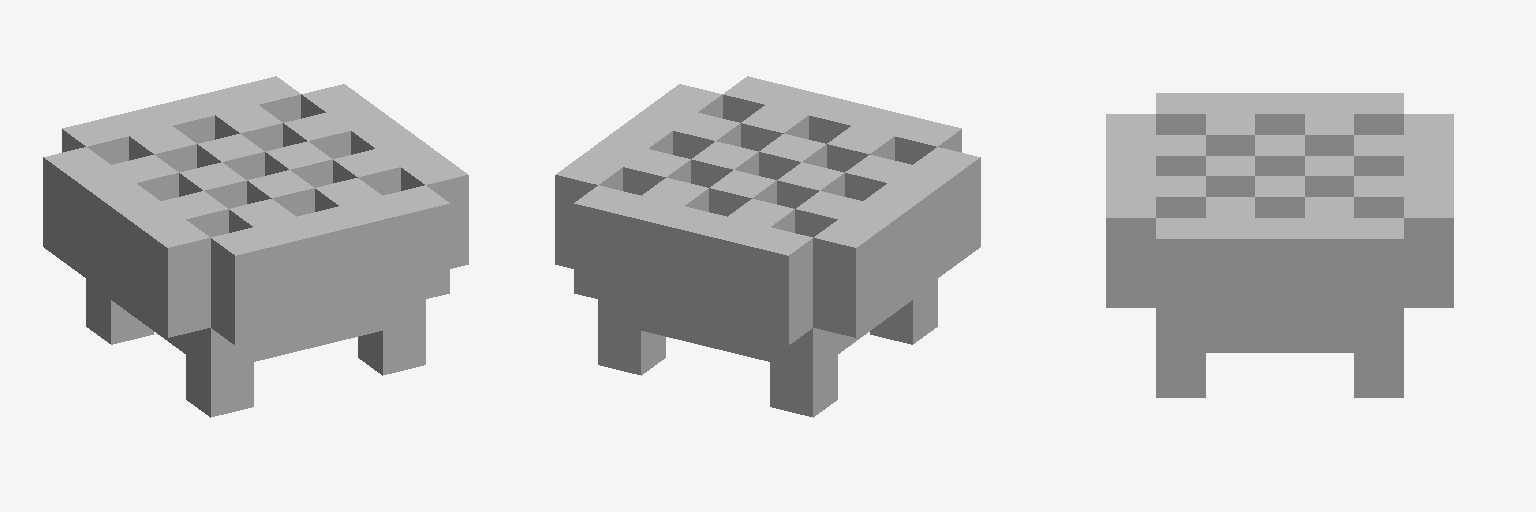
File: chair.obj
3 renders of one model, left to right at view 1: azimuth 30°, elevation 25°; view 2: azimuth 150°, elevation 25°; view 3: azimuth 270°, elevation 25°, orthographic.
Visible parts, largest first — view 1: chair; view 2: chair; view 3: chair.
Part boxes in pixels (bbox=[...]): chair: bbox=[43, 76, 468, 417]; chair: bbox=[555, 76, 980, 417]; chair: bbox=[1106, 93, 1453, 397].
Size of the model in its own units: 7 by 4 by 7.